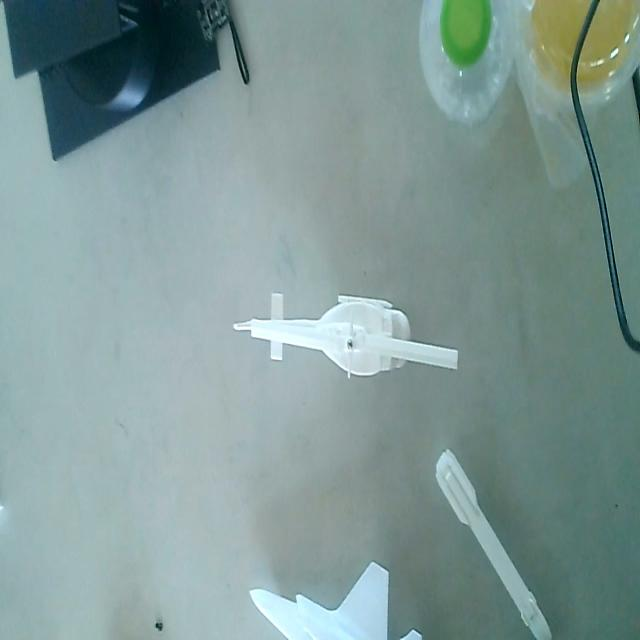Helicopter: (225, 288, 459, 400)
Jet: (245, 533, 426, 640)
Rocket: (433, 442, 559, 640)
